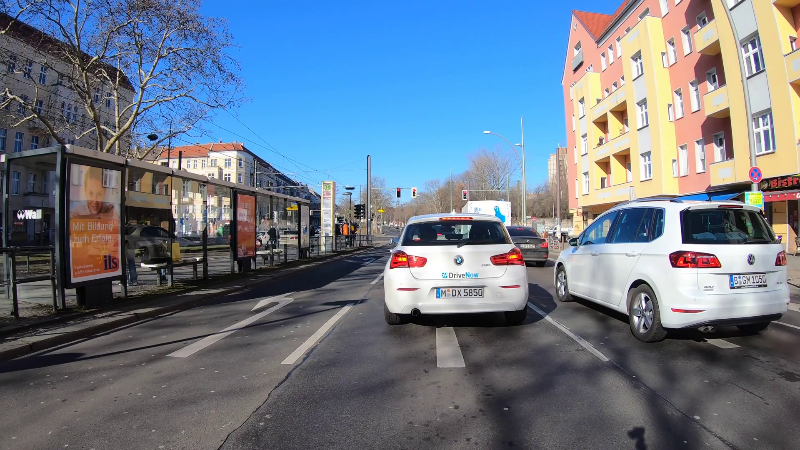Plate: (435, 285, 486, 298), (729, 272, 768, 287)
